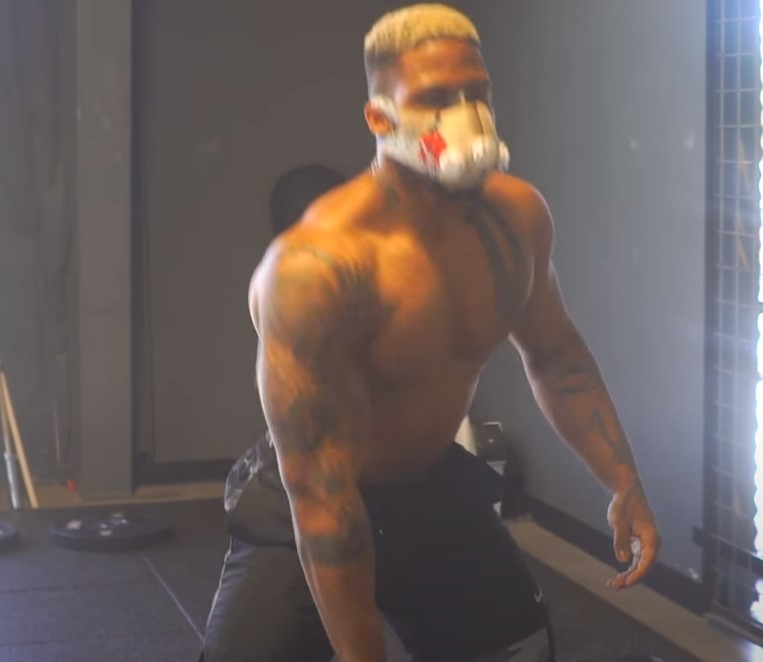face_with_mask: (363, 4, 514, 198)
